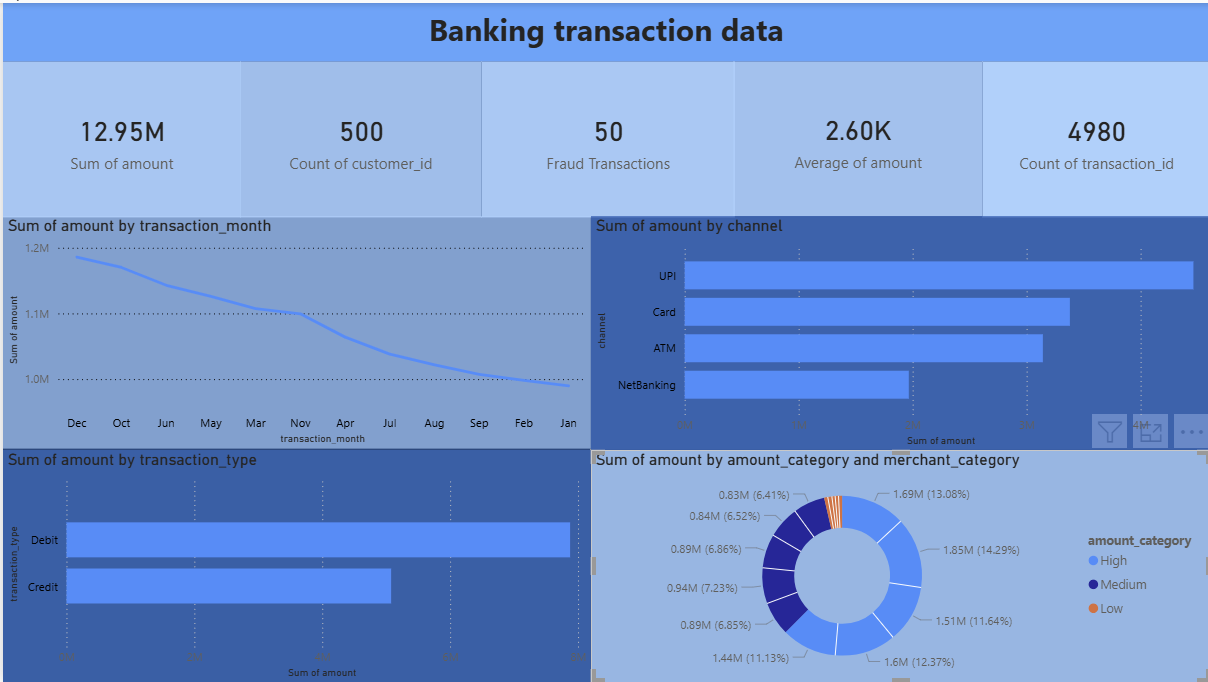

The page's visual inventory and layout, read from the dashboard file:
{"tool":"powerbi","page":{"name":"Page 1","canvas":[1280,720],"ordinal":0},"visuals":[{"type":"textbox","box":[0,0,1279.4,61.9],"z":0},{"type":"card","fields":{"Values":["Sum(banking_clean_data.amount)"]},"box":[0,61.7,251.7,165],"z":1000},{"type":"card","fields":{"Values":["CountNonNull(banking_clean_data.transaction_id)"]},"box":[1038.7,62,241.8,165.4],"z":2000},{"type":"card","fields":{"Values":["Avg(banking_clean_data.amount)"]},"box":[774.6,62,264,163.8],"z":3000},{"type":"card","fields":{"Values":["Count(banking_clean_data.customer_id)"]},"box":[251.3,62,256.1,165.4],"z":4000},{"type":"card","fields":{"Values":["banking_clean_data.Fraud Transactions"]},"box":[506.7,61.7,268.3,165],"z":5000},{"type":"lineChart","fields":{"Y":["Sum(banking_clean_data.amount)"],"Category":["banking_clean_data.transaction_month"]},"box":[0,225.9,623.5,246.5],"z":6000},{"type":"donutChart","fields":{"Category":["banking_clean_data.amount_category"],"Y":["Sum(banking_clean_data.amount)"],"Series":["banking_clean_data.merchant_category"]},"box":[623.5,474,656.9,246.5],"z":7000},{"type":"barChart","fields":{"Y":["Sum(banking_clean_data.amount)"],"Category":["banking_clean_data.transaction_type"]},"box":[0,474,623.5,246.5],"z":8000},{"type":"barChart","fields":{"Y":["Sum(banking_clean_data.amount)"],"Category":["banking_clean_data.channel"]},"box":[623.5,225.9,656.9,248.1],"z":9000}]}

Visuals, with their boxes in screenshot pixels (x1, y1, x2, y2), scaled from the page's 1280x720 canvas onto the 1208x682 screenshot:
textbox: detection(0, 0, 1207, 59)
card - Sum(banking_clean_data.amount): detection(0, 58, 238, 215)
card - CountNonNull(banking_clean_data.transaction_id): detection(980, 59, 1207, 215)
card - Avg(banking_clean_data.amount): detection(731, 59, 980, 214)
card - Count(banking_clean_data.customer_id): detection(237, 59, 479, 215)
card - banking_clean_data.Fraud Transactions: detection(478, 58, 731, 215)
lineChart - Sum(banking_clean_data.amount) x banking_clean_data.transaction_month: detection(0, 214, 588, 447)
donutChart - banking_clean_data.amount_category x Sum(banking_clean_data.amount): detection(588, 449, 1207, 681)
barChart - Sum(banking_clean_data.amount) x banking_clean_data.transaction_type: detection(0, 449, 588, 681)
barChart - Sum(banking_clean_data.amount) x banking_clean_data.channel: detection(588, 214, 1207, 449)
